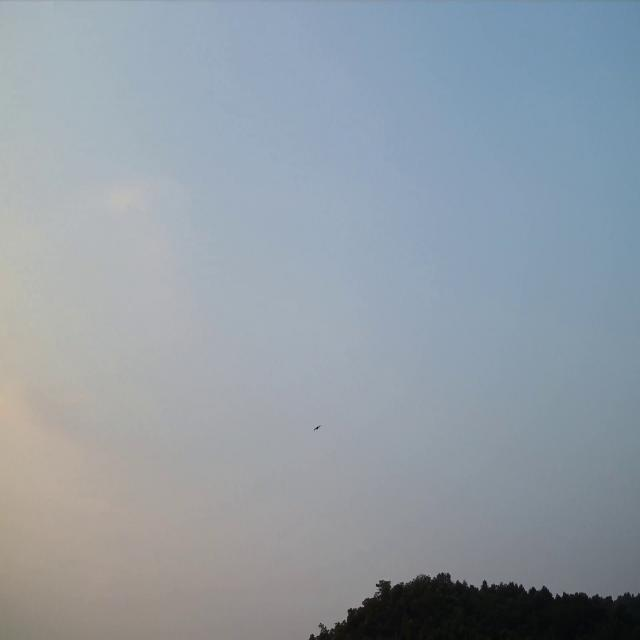drone: (313, 424, 321, 431)
